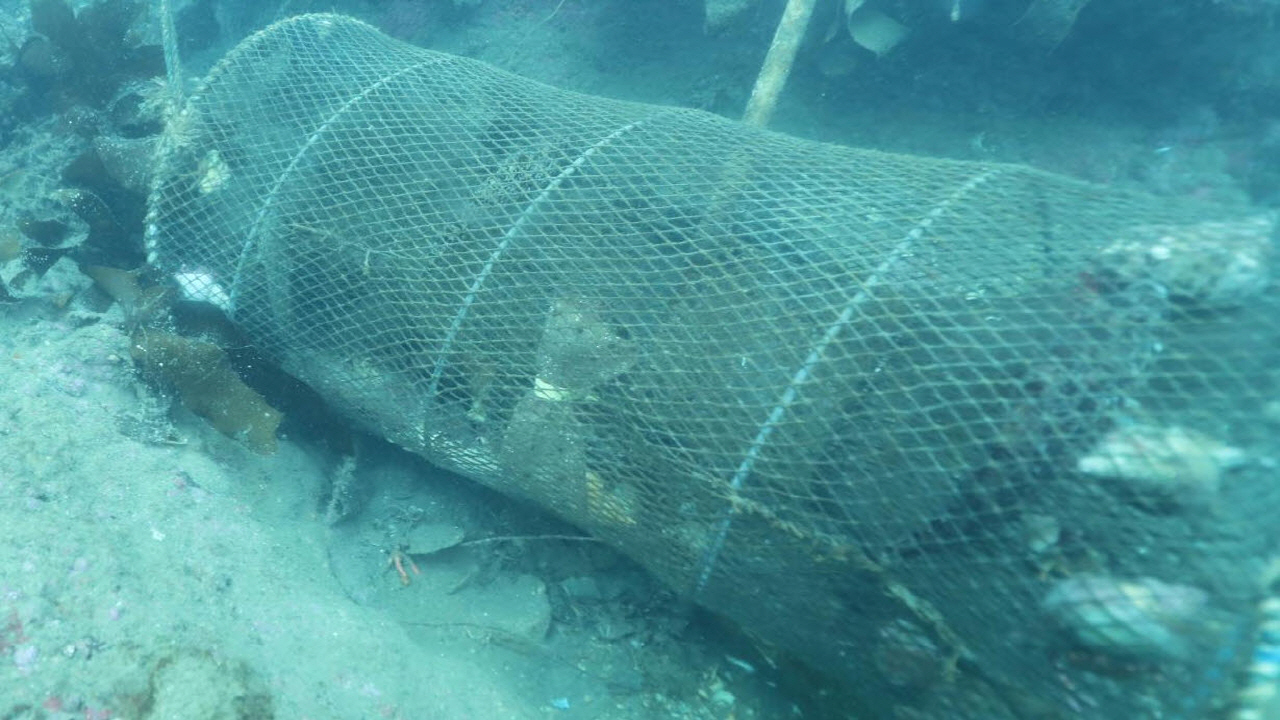bundle of ropes: (159, 0, 186, 107)
spring fish trap: (143, 10, 1280, 720)
